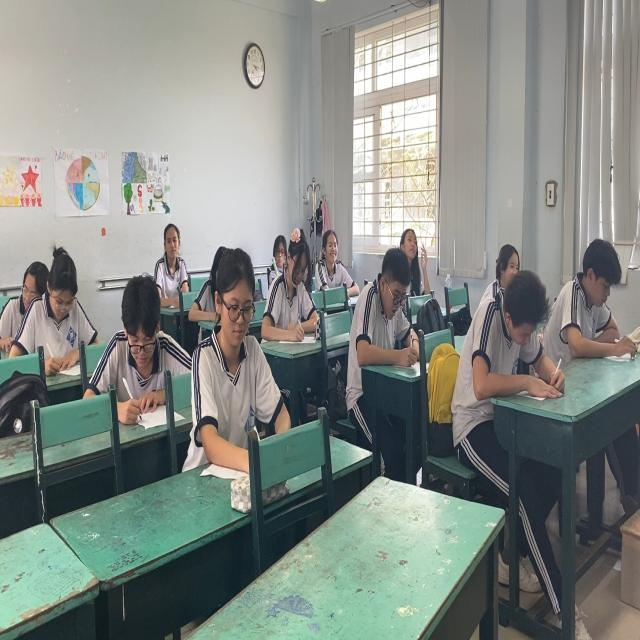not_cheating: (187, 249, 270, 447), (470, 252, 566, 394), (106, 273, 181, 410), (564, 229, 638, 364), (360, 245, 426, 368), (30, 246, 99, 358), (275, 226, 322, 341), (12, 251, 56, 322), (316, 225, 363, 289), (156, 225, 190, 302), (398, 218, 424, 282), (268, 236, 287, 278)
